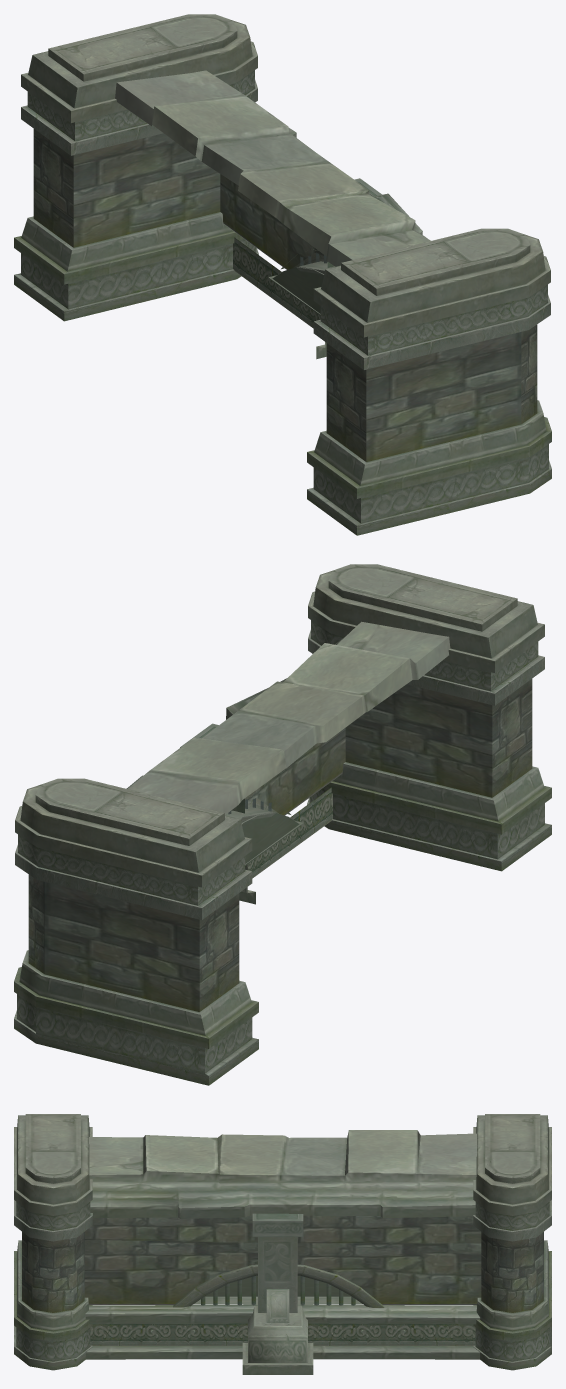
Rendered from wlf_qiang04_w.FBX.
The picture shows the model from 3 angles, top to bottom: view 1: azimuth 30°, elevation 25°; view 2: azimuth 150°, elevation 25°; view 3: azimuth 270°, elevation 25°; orthographic projection. The views are drawn at different scales.
Visible parts, largest first — view 1: wlf_qiang04_w; view 2: wlf_qiang04_w; view 3: wlf_qiang04_w.
Part boxes in pixels (<box>): wlf_qiang04_w: <box>14,14,551,535</box>; wlf_qiang04_w: <box>14,564,551,1085</box>; wlf_qiang04_w: <box>14,1114,551,1374</box>.
Bounding box in the file's own units: 26.63 × 26.29 × 69.56.
